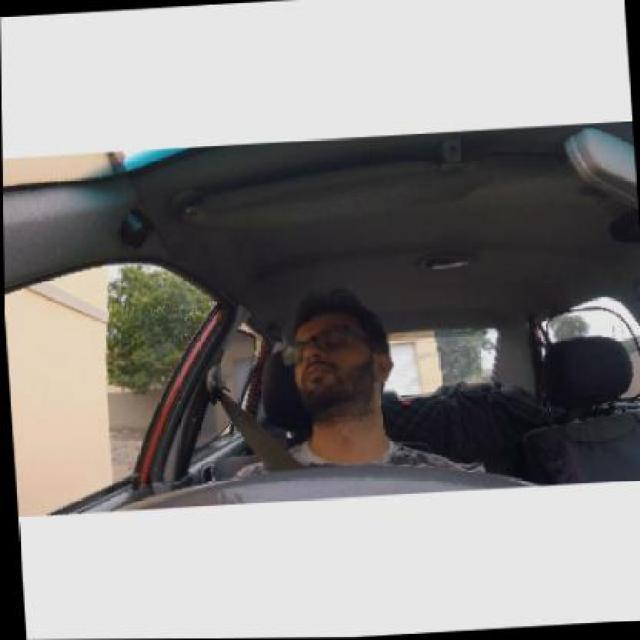drowsy: (274, 289, 403, 434)
